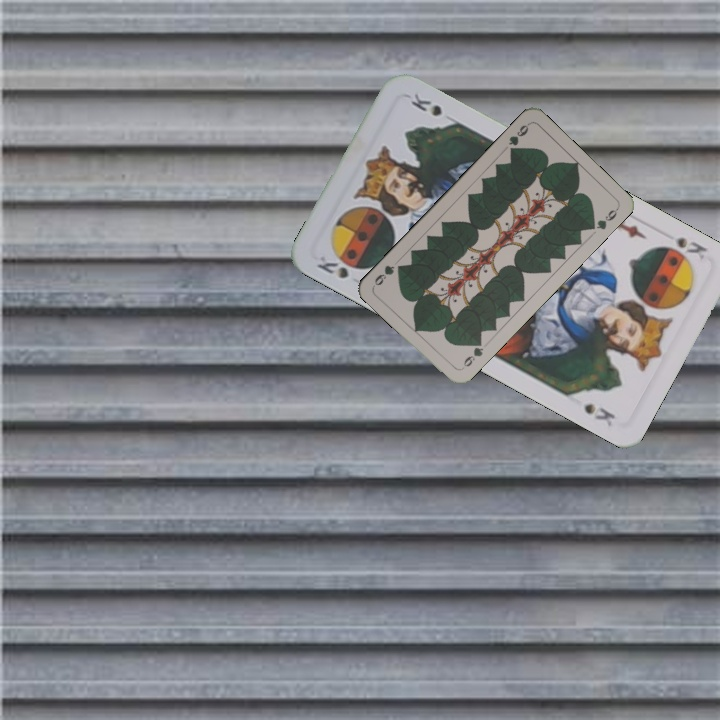G9: (504, 119, 532, 156), (458, 336, 486, 372)
SK: (670, 233, 712, 262), (312, 251, 351, 281)
